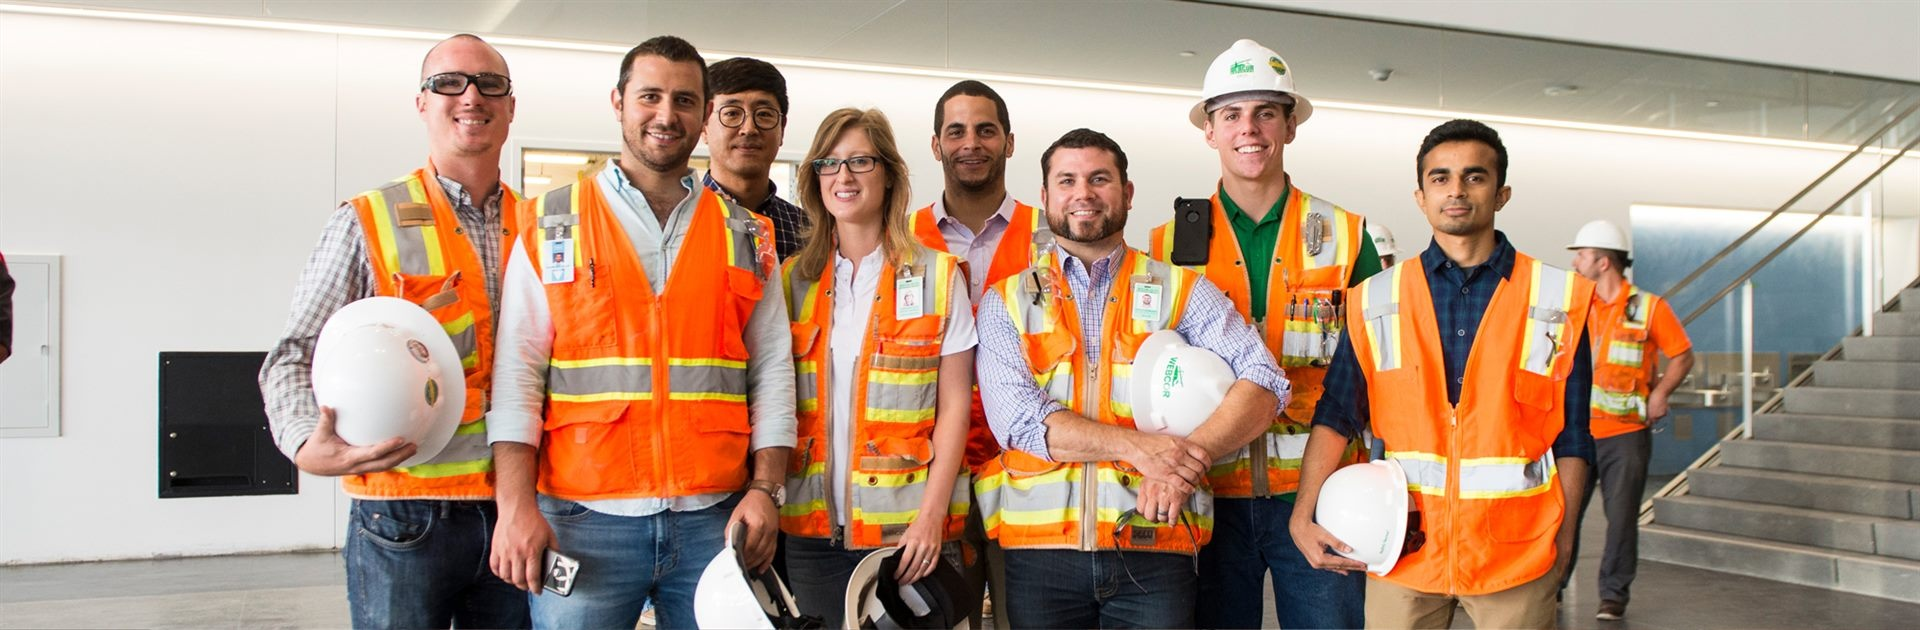none: (1401, 110, 1521, 248), (410, 25, 520, 169), (607, 33, 715, 178), (1026, 129, 1146, 255), (796, 107, 909, 239), (696, 51, 790, 184), (924, 78, 1027, 199)
white: (1187, 29, 1311, 188), (1562, 213, 1636, 286)
